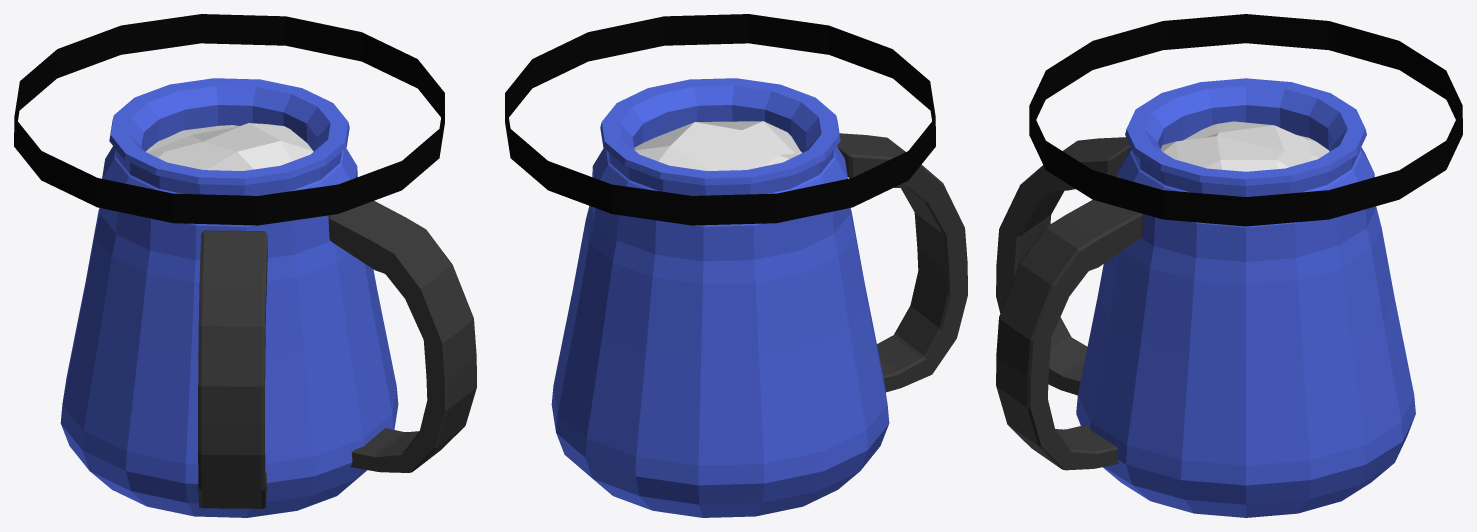
File: Chalk.fbx
3 views of the same model, side by side, from view 1: azimuth 30°, elevation 25°; view 2: azimuth 150°, elevation 25°; view 3: azimuth 270°, elevation 25° (orthographic).
Parts seen in each view (by area): view 1: Cylinder, Cube, Cylinder.001, Plane; view 2: Cylinder, Cylinder.001, Cube, Plane; view 3: Cylinder, Cube, Cylinder.001, Plane.
Part boxes in pixels (x1,y1,x2,y2): Cylinder: (60,78,398,517); Cube: (198,201,476,508); Cylinder.001: (14,14,444,225); Plane: (146,123,313,170); Cylinder: (551,78,889,517); Cylinder.001: (505,14,935,225); Cube: (837,133,967,392); Plane: (634,121,801,170); Cylinder: (1076,78,1415,517); Cube: (996,137,1143,470); Cylinder.001: (1029,14,1462,226); Plane: (1161,121,1329,171).
Bounding box in the file's own units: 300 × 278 × 322.
